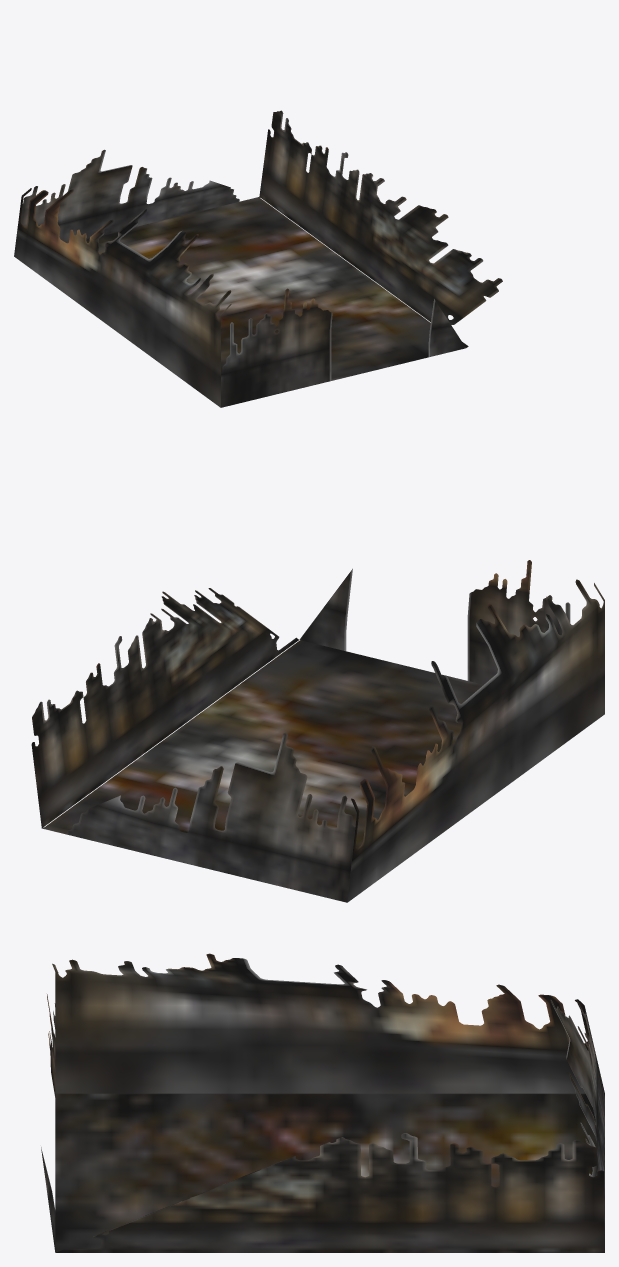
Rendered from singlecivlivingc_dam.glb.
3 renders of one model, top to bottom at view 1: azimuth 30°, elevation 25°; view 2: azimuth 150°, elevation 25°; view 3: azimuth 270°, elevation 25°, orthographic. The views are drawn at different scales.
Visible parts, largest first — view 1: Cylinder01; view 2: Cylinder01; view 3: Cylinder01.
Boxes of the visible parts, x1,y1,x2,y2 form: Cylinder01: (14,110,502,407); Cylinder01: (31,560,604,902); Cylinder01: (41,953,604,1252).
Size of the model in its own units: 5.71 by 2.53 by 5.72.
Materials: 1 (1 with a texture image).
